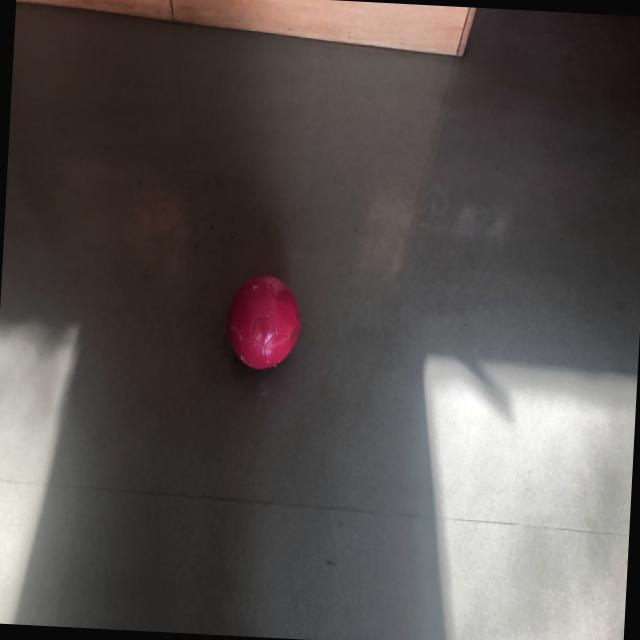red_ball: (226, 270, 305, 374)
